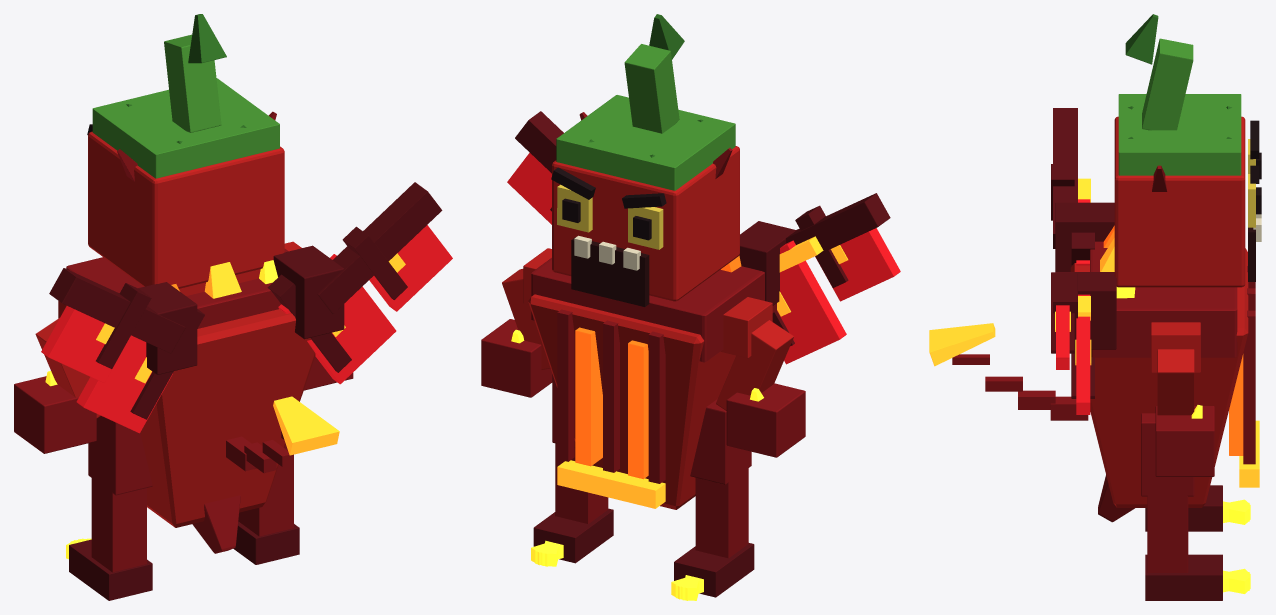
Rendered from chili-imp.glb.
3 renders of one model, left to right at view 1: azimuth 30°, elevation 25°; view 2: azimuth 150°, elevation 25°; view 3: azimuth 270°, elevation 25°, orthographic. The views are drawn at different scales.
Parts seen in each view (by area): view 1: head, body, wing.L, wing.R, leg.FR, arm.R, tail, leg.FL, arm.L; view 2: head, body, wing.R, leg.FR, arm.R, arm.L, leg.FL, wing.L; view 3: head, body, leg.FL, arm.L, wing.L, wing.R, tail, leg.FR.
Boxes of the visible parts, x1=… form: head: x1=87, y1=14, x2=284, y2=288; body: x1=66, y1=249, x2=315, y2=553; wing.L: x1=267, y1=182, x2=452, y2=384; wing.R: x1=41, y1=268, x2=204, y2=433; leg.FR: x1=66, y1=416, x2=152, y2=600; arm.R: x1=14, y1=301, x2=100, y2=453; tail: x1=226, y1=396, x2=339, y2=473; leg.FL: x1=233, y1=444, x2=299, y2=564; arm.L: x1=284, y1=241, x2=353, y2=390; head: x1=551, y1=14, x2=739, y2=306; body: x1=528, y1=255, x2=776, y2=509; wing.R: x1=739, y1=193, x2=900, y2=364; leg.FR: x1=671, y1=399, x2=754, y2=600; arm.R: x1=716, y1=297, x2=805, y2=457; arm.L: x1=481, y1=248, x2=552, y2=397; leg.FL: x1=531, y1=374, x2=613, y2=566; wing.L: x1=507, y1=111, x2=563, y2=224; head: x1=1114, y1=14, x2=1261, y2=287; body: x1=1070, y1=225, x2=1259, y2=522; leg.FL: x1=1141, y1=413, x2=1250, y2=600; arm.L: x1=1151, y1=322, x2=1214, y2=476; wing.L: x1=1051, y1=272, x2=1116, y2=414; wing.R: x1=1051, y1=108, x2=1114, y2=271; tail: x1=929, y1=323, x2=1088, y2=420; leg.FR: x1=1145, y1=485, x2=1250, y2=531.
Bounding box in the file's own units: 0.7558 × 1 × 0.5563.
